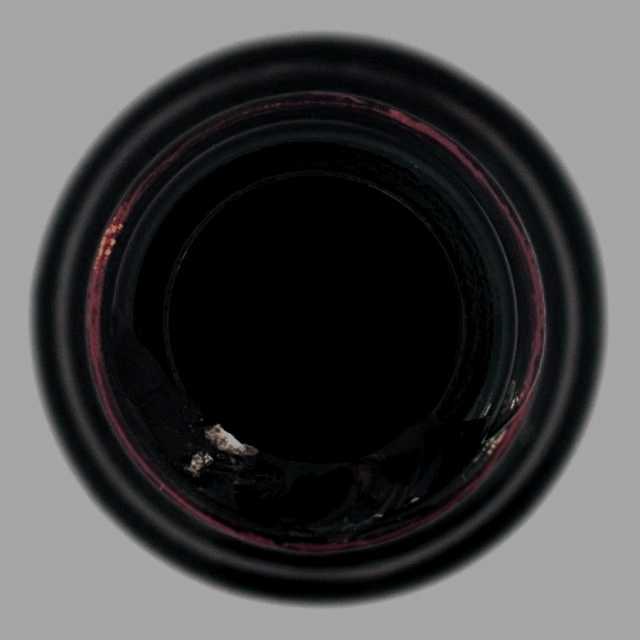bad-broken_large: (28, 29, 608, 607)
